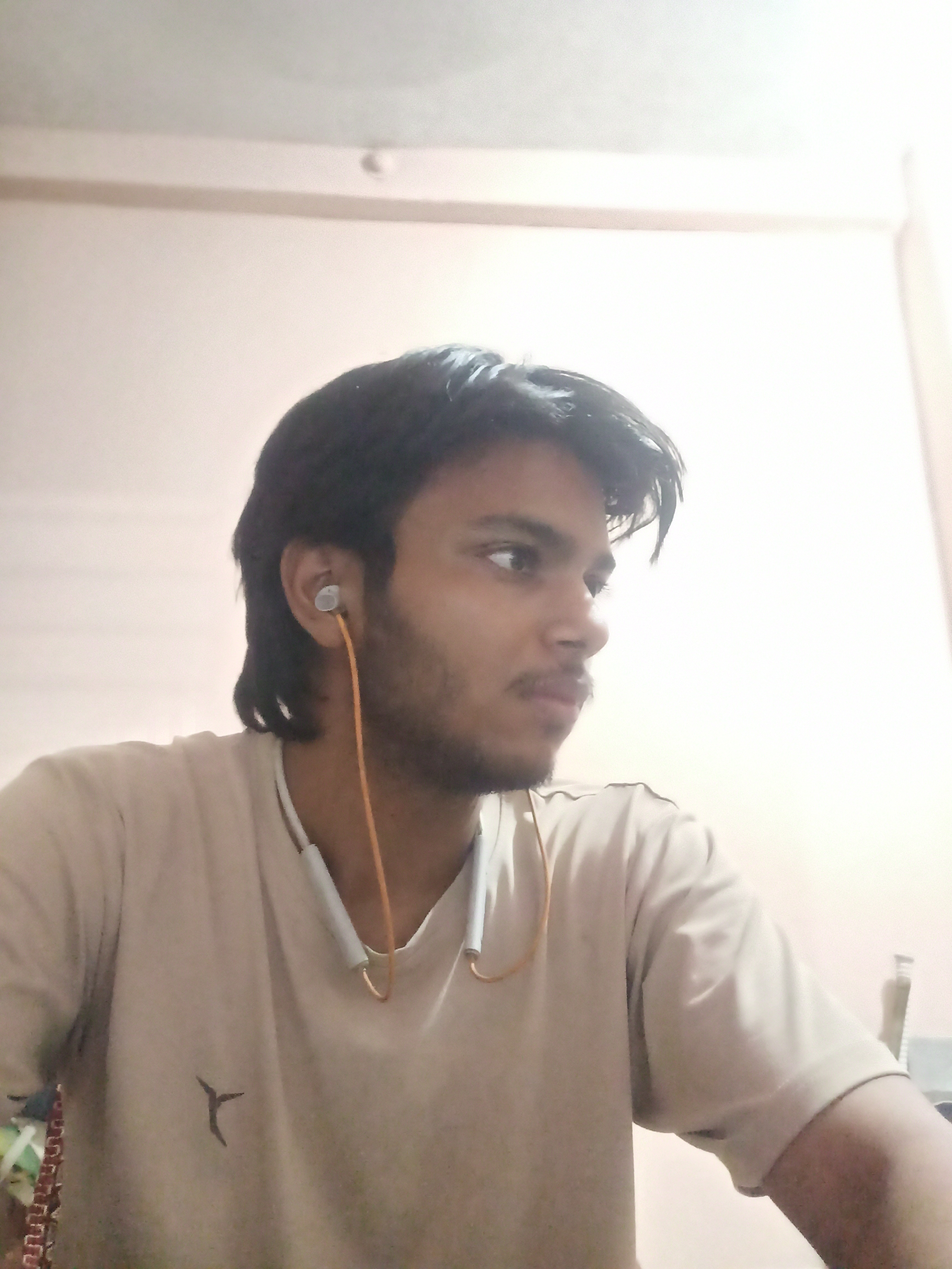distracted: (237, 311, 647, 788)
